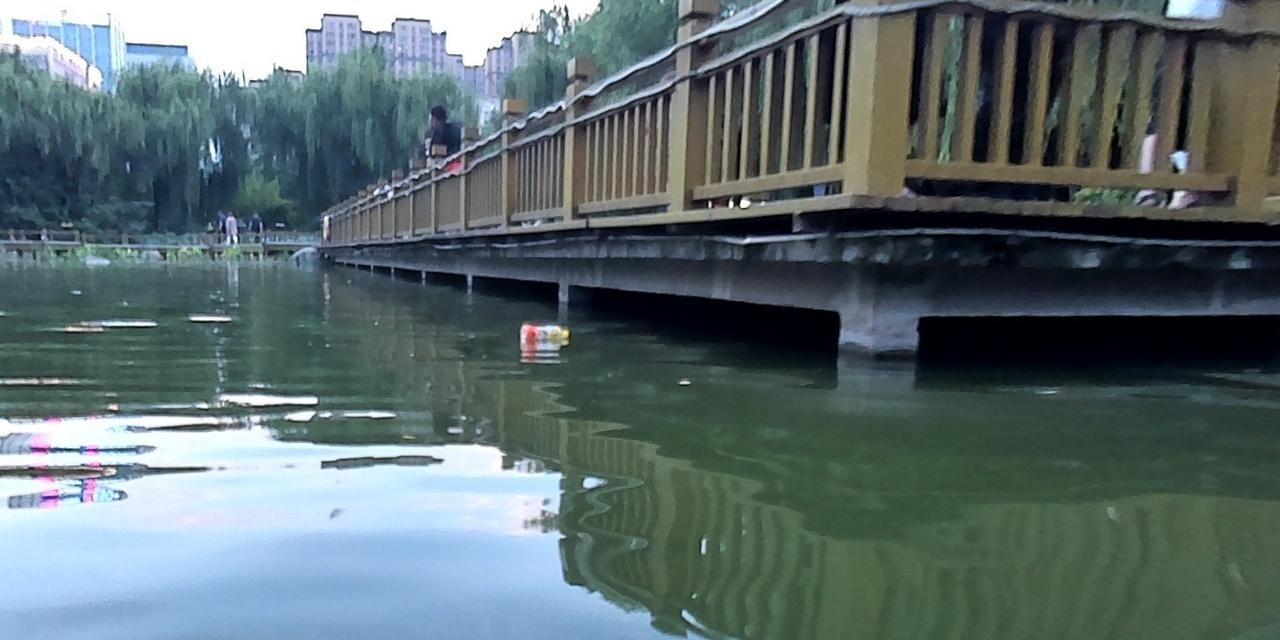bottle: (516, 322, 570, 342)
